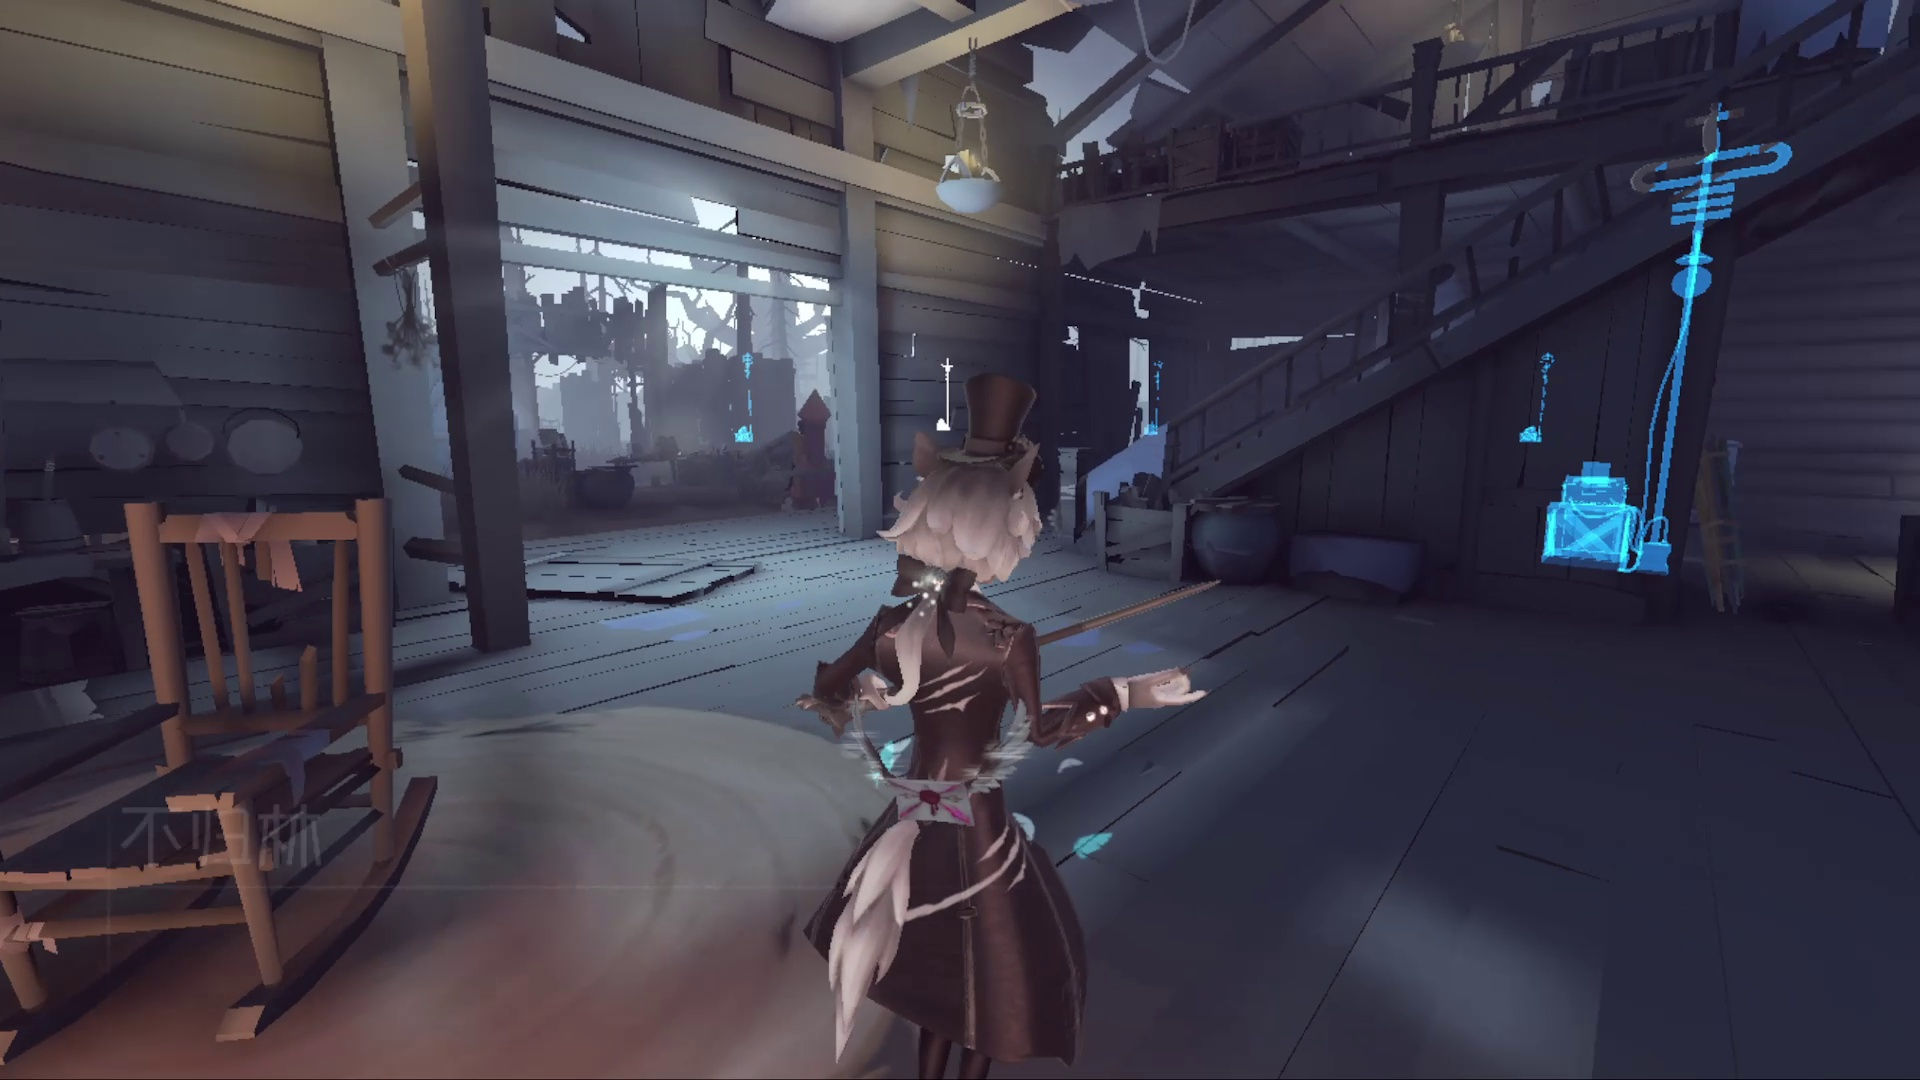密码机: (1547, 105, 1776, 580), (694, 328, 778, 475), (1503, 338, 1567, 472), (1133, 344, 1200, 465), (934, 330, 975, 465)
